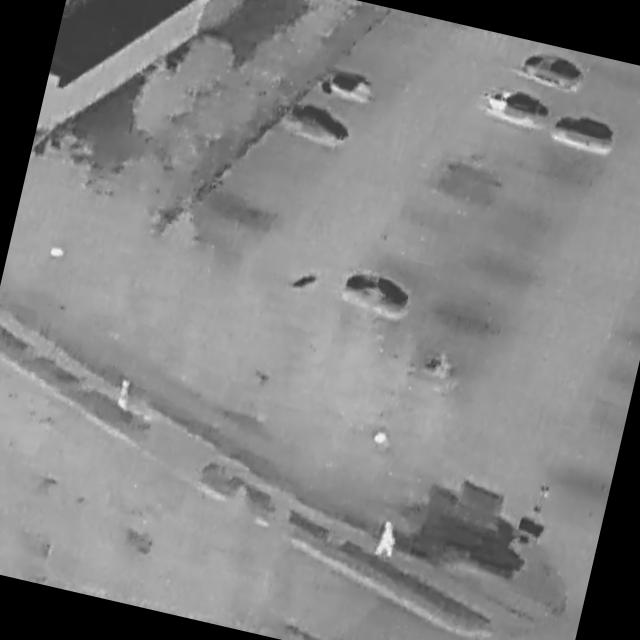person: (371, 519, 402, 559), (113, 374, 137, 414)
